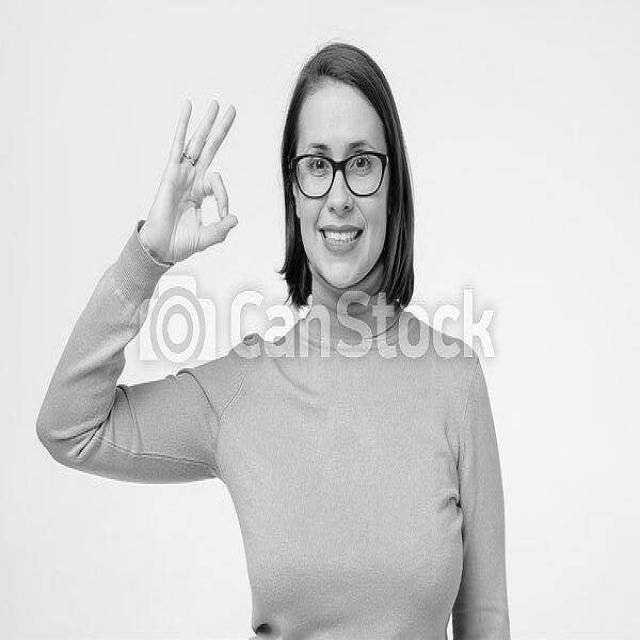perfect: (144, 91, 243, 272)
